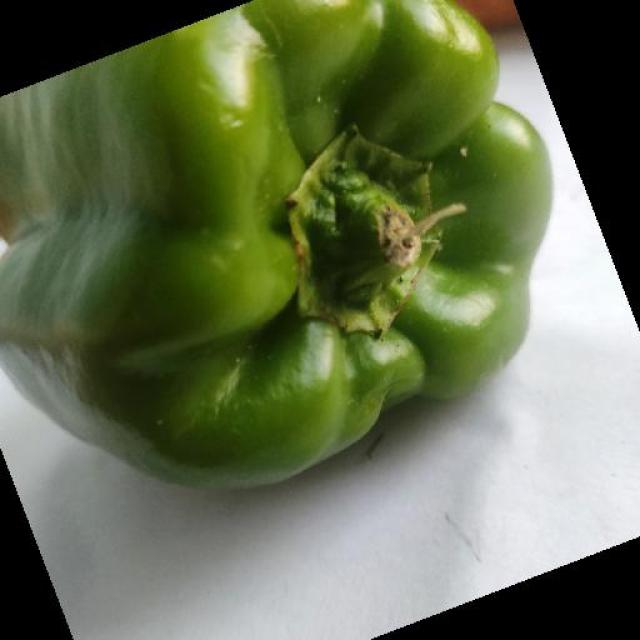Fresh_Capsicum: (47, 41, 513, 459)
